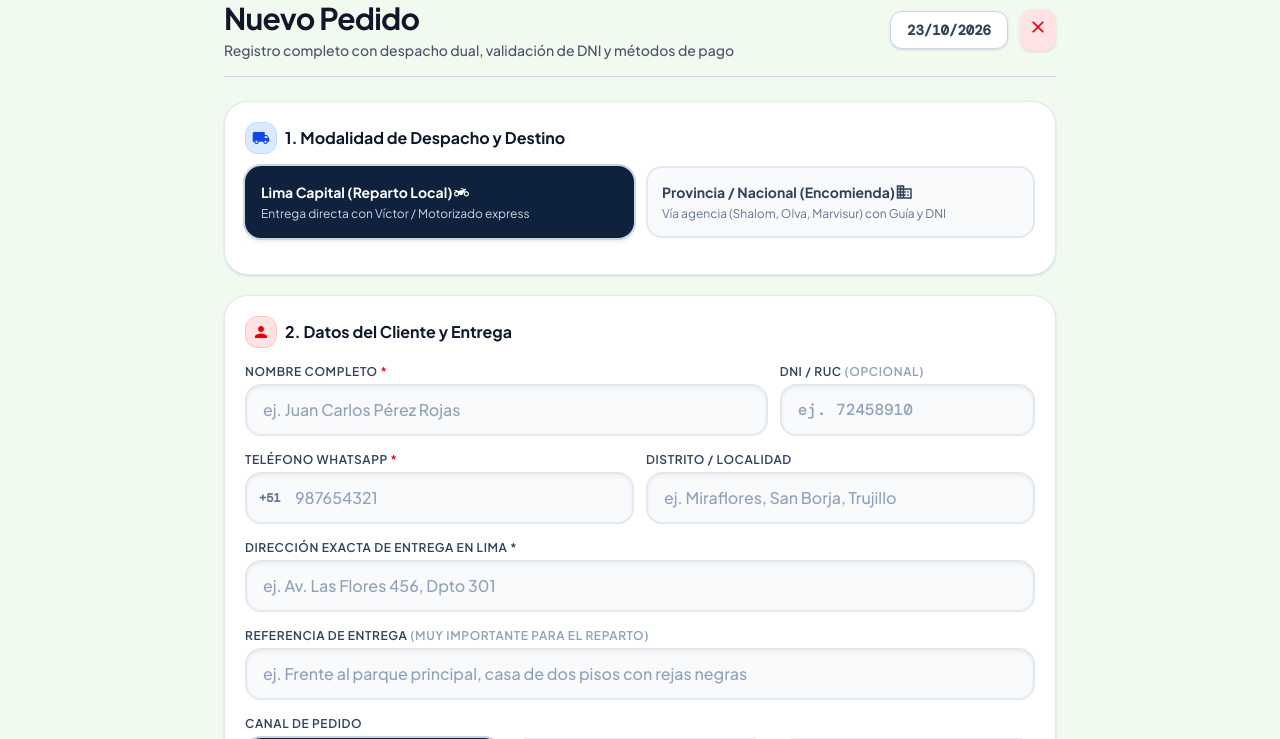
Test: PedidoForm: submit › T5: PedidoForm muestra banner de error si crearPedido falla
// Llenar campos requeridos
In the field with placeholder "ej. Juan Carlos Pérez Rojas": (506, 410) [245,384,768,436], type "Juan"
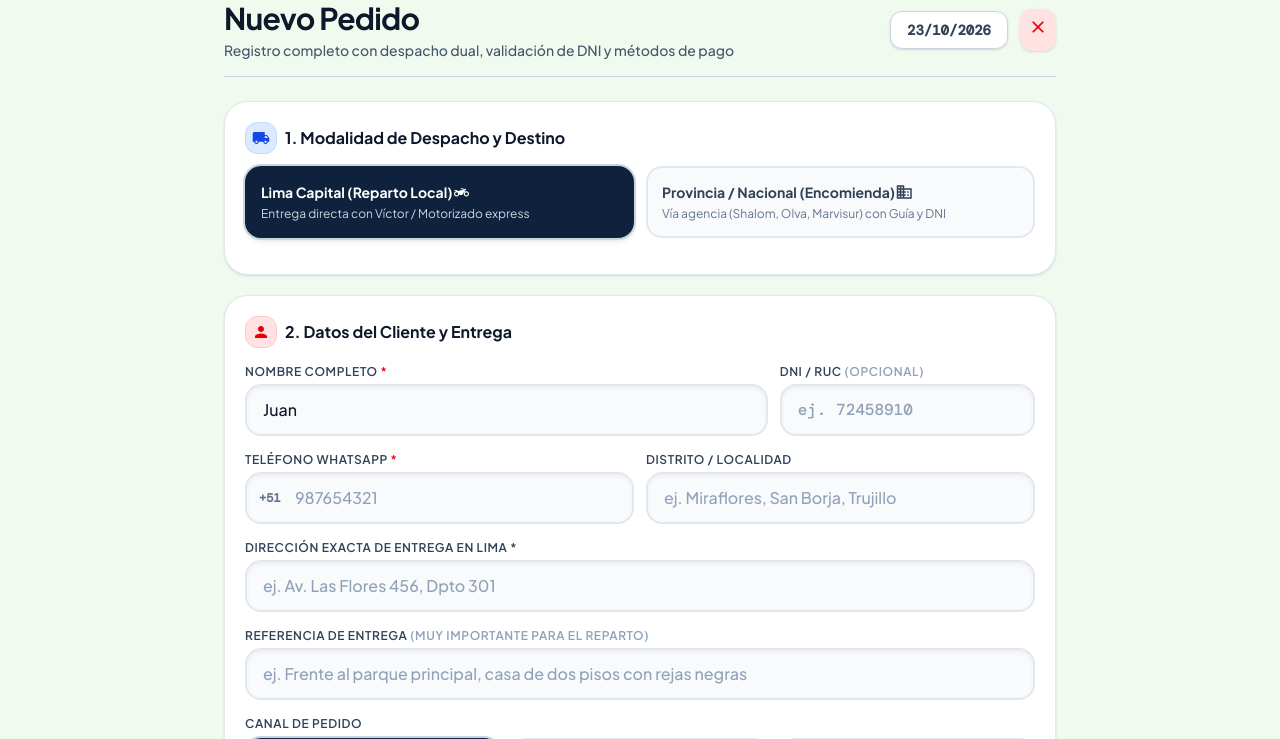
In the field with placeholder "987654321": (440, 498) [245,472,634,524], type "1234567"
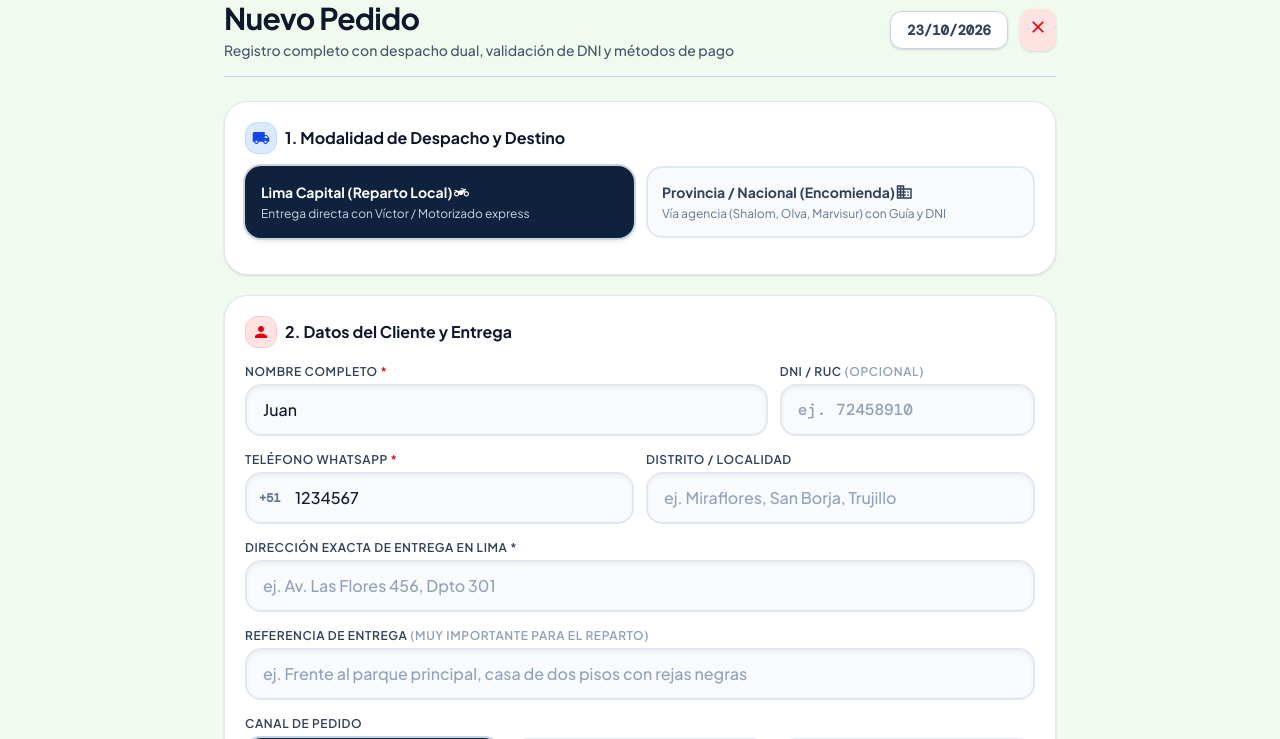
In the field with placeholder "ej. Av. Las Flores 456, Dpto 301": (640, 586) [245,560,1035,612], type "Calle 123"
(page scrolled)
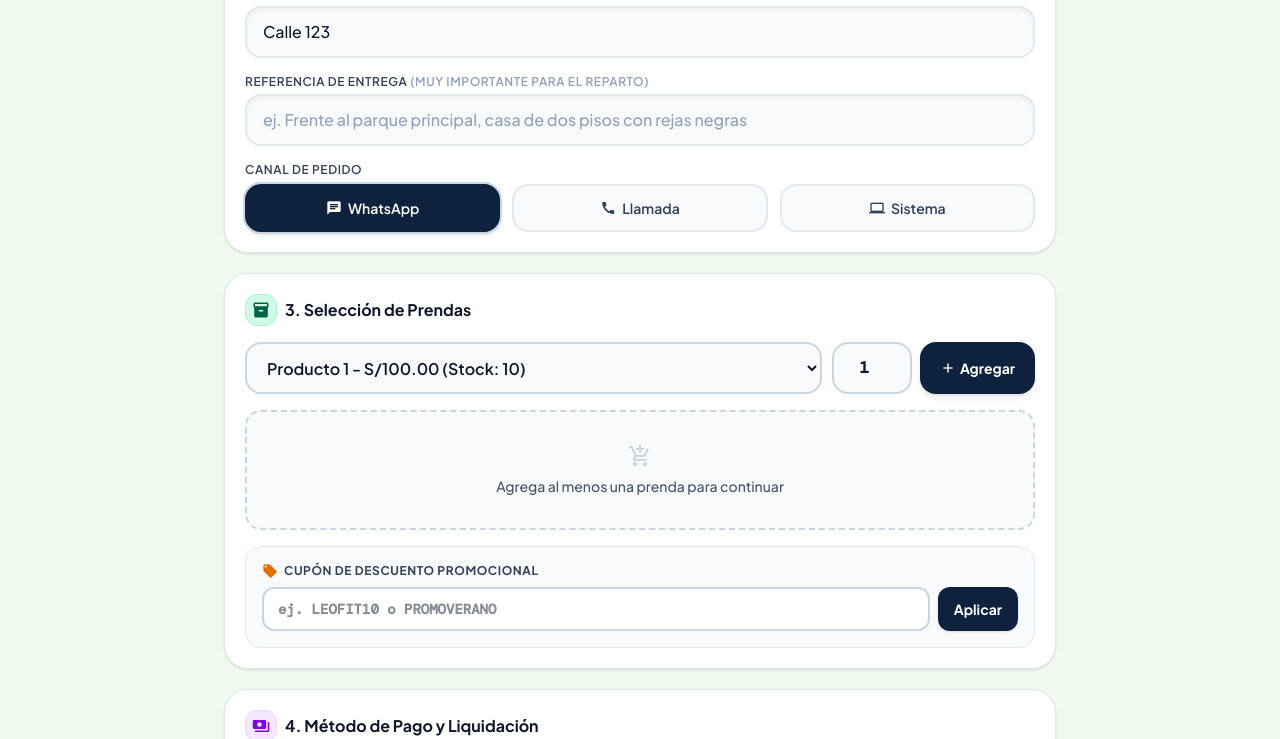
// Seleccionar producto
Select "Producto 1 - S/100.00 (Stock: 10)" in the dropdown: (533, 368) [245,342,822,394]
Click the text "Agregar": (987, 368) [960,358,1015,378]
(page scrolled)
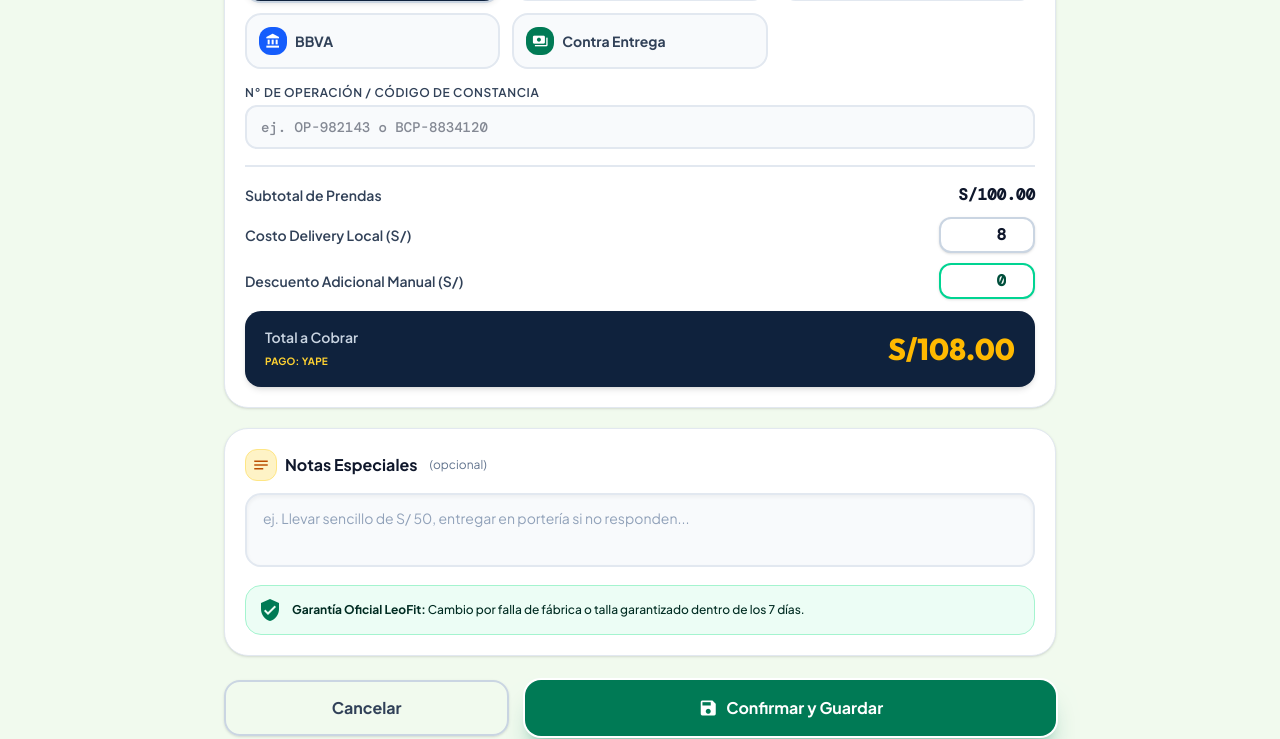
Click the button "Confirmar y Guardar": (791, 708) [525,680,1056,736]
(page scrolled)
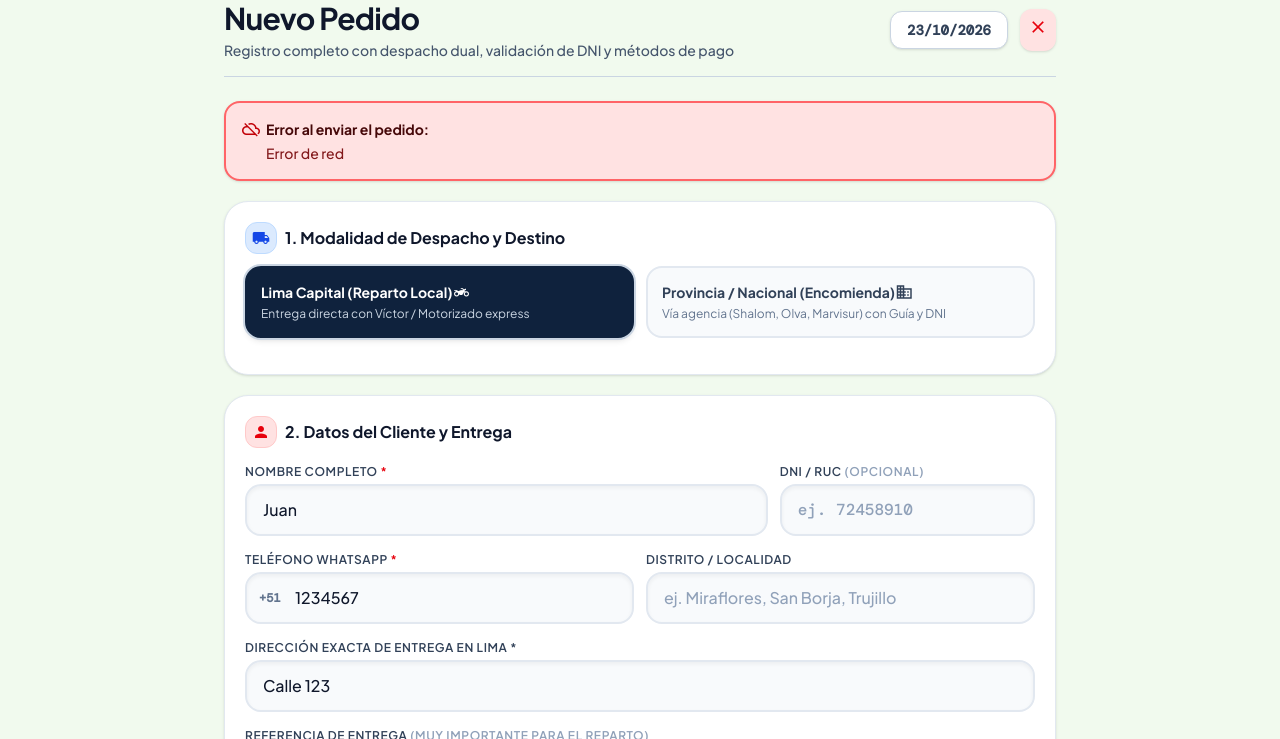
Expected: the text "Error al enviar el pedido:" is shown, [242,120,429,138]
Expected: the text "Error de red" is shown, [266,144,344,162]
